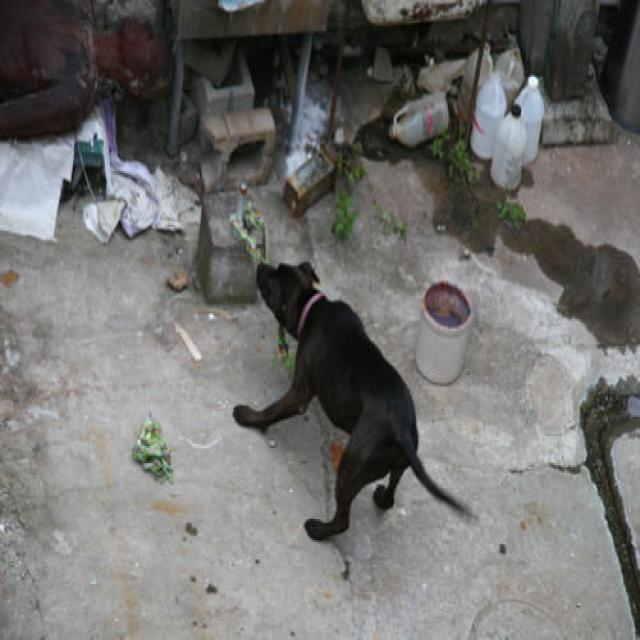bottle: (489, 103, 526, 193), (388, 93, 449, 147), (471, 72, 508, 161), (457, 41, 494, 124), (514, 74, 545, 164), (492, 47, 526, 107)
dog: (231, 257, 480, 545)
